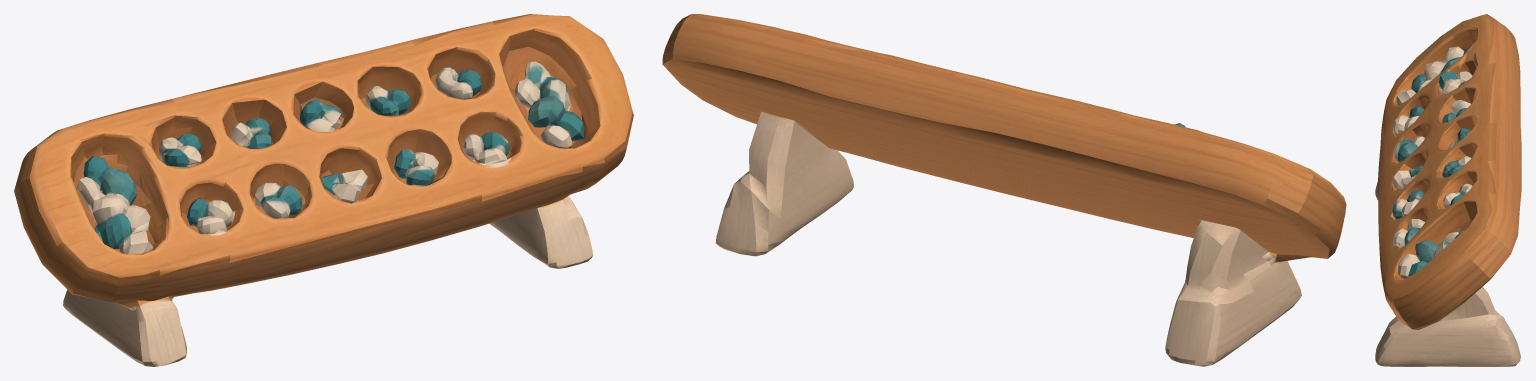
File: mangala.glb
The picture shows the model from 3 angles, left to right: view 1: azimuth 30°, elevation 25°; view 2: azimuth 150°, elevation 25°; view 3: azimuth 270°, elevation 25°; orthographic projection. The views are drawn at different scales.
Visible parts, largest first — view 1: Mesh0; view 2: Mesh0; view 3: Mesh0.
Boxes of the visible parts, left/top/right/bottom form: Mesh0: left=14, top=14, right=633, bottom=366; Mesh0: left=662, top=14, right=1346, bottom=366; Mesh0: left=1375, top=14, right=1521, bottom=366.
Bounding box in the file's own units: 1.9 × 0.6078 × 0.4946.
Materials: 1 (1 with a texture image).
